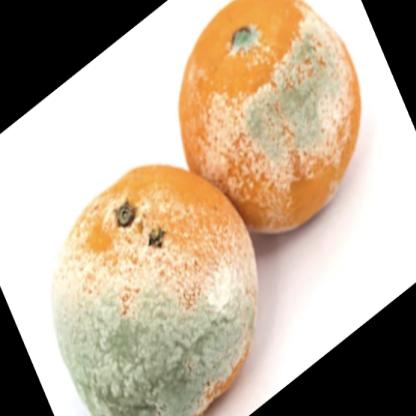rotten: (56, 1, 360, 416)
